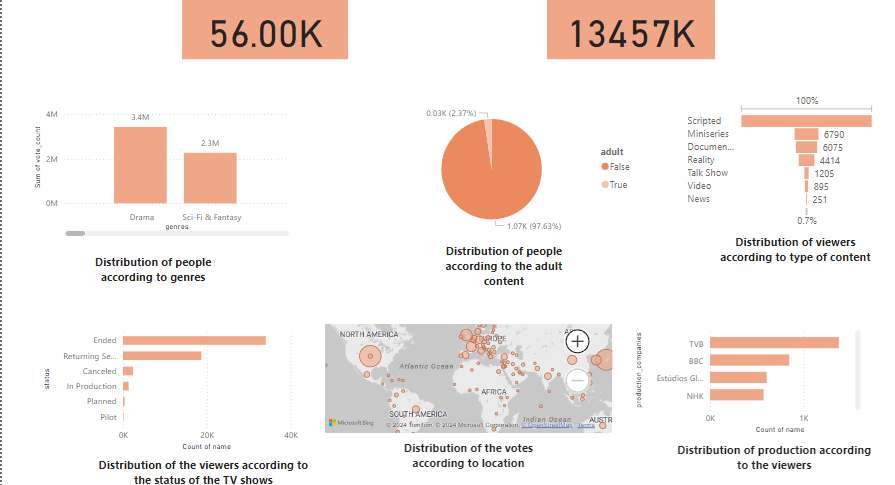

The page's visual inventory and layout, read from the dashboard file:
{"tool":"powerbi","page":{"name":"Dashboard","canvas":[1280,720],"ordinal":0},"visuals":[{"type":"columnChart","fields":{"Y":["Count(TMDB_tv_dataset_v3.vote_count)"],"Category":["TMDB_tv_dataset_v3.genres"]},"box":[40.7,145.7,374.9,198.2],"z":1000},{"type":"pieChart","fields":{"Y":["Count(TMDB_tv_dataset_v3.vote_count)"],"Category":["TMDB_tv_dataset_v3.adult"]},"box":[538.5,143.4,374.6,200.5],"z":2000},{"type":"textbox","box":[89.3,360,254.6,61.5],"z":3000},{"type":"textbox","box":[601.5,343.9,231.2,77.6],"z":3001},{"type":"funnel","fields":{"Category":["TMDB_tv_dataset_v3.type"],"Y":["Count(TMDB_tv_dataset_v3.name)"]},"box":[974.6,130.2,278,200.5],"z":3002},{"type":"textbox","box":[1018.5,330.7,229.8,74.6],"z":3003},{"type":"clusteredBarChart","fields":{"Category":["TMDB_tv_dataset_v3.status"],"Y":["Count(TMDB_tv_dataset_v3.name)"]},"box":[52.7,459.5,374.6,190.2],"z":3004},{"type":"textbox","box":[118.5,649.8,338,70.2],"z":3005},{"type":"card","fields":{"Values":["Count(TMDB_tv_dataset_v3.name)"]},"box":[257.6,0,237.1,86.3],"z":3006},{"type":"card","fields":{"Values":["Sum(TMDB_tv_dataset_v3.vote_count)"]},"box":[778.5,0,240,86.3],"z":3007},{"type":"map","fields":{"Category":["TMDB_tv_dataset_v3.origin_country"],"Size":["Sum(TMDB_tv_dataset_v3.vote_average)"]},"box":[456.9,459.9,419.7,165.2],"z":3008},{"type":"textbox","box":[541.8,625.1,250,59.5],"z":3009},{"type":"barChart","fields":{"Category":["TMDB_tv_dataset_v3.production company"],"Y":["Count(TMDB_tv_dataset_v3.name)"]},"box":[899,459.9,333.4,165.2],"z":3010},{"type":"textbox","box":[952.6,628.1,300.7,56.6],"z":3011}]}

Visuals, with their boxes on the page's 1280x720 design canvas (x1, y1, x2, y2). These are canvas units, not pixel positions in the 895x485 screenshot, which may show the page scaled, cropped or inside an application window:
columnChart - Count(TMDB_tv_dataset_v3.vote_count) x TMDB_tv_dataset_v3.genres: (41,146,416,344)
pieChart - Count(TMDB_tv_dataset_v3.vote_count) x TMDB_tv_dataset_v3.adult: (538,143,913,344)
textbox: (89,360,344,422)
textbox: (602,344,833,422)
funnel - TMDB_tv_dataset_v3.type x Count(TMDB_tv_dataset_v3.name): (975,130,1253,331)
textbox: (1018,331,1248,405)
clusteredBarChart - TMDB_tv_dataset_v3.status x Count(TMDB_tv_dataset_v3.name): (53,460,427,650)
textbox: (118,650,456,720)
card - Count(TMDB_tv_dataset_v3.name): (258,0,495,86)
card - Sum(TMDB_tv_dataset_v3.vote_count): (778,0,1018,86)
map - TMDB_tv_dataset_v3.origin_country x Sum(TMDB_tv_dataset_v3.vote_average): (457,460,877,625)
textbox: (542,625,792,685)
barChart - TMDB_tv_dataset_v3.production company x Count(TMDB_tv_dataset_v3.name): (899,460,1232,625)
textbox: (953,628,1253,685)
